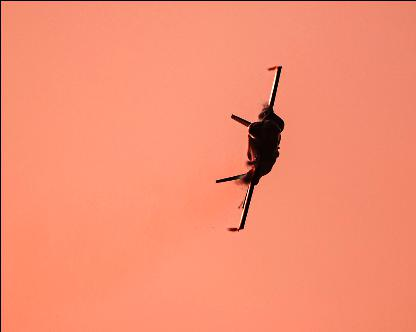F22: (214, 65, 282, 231)
